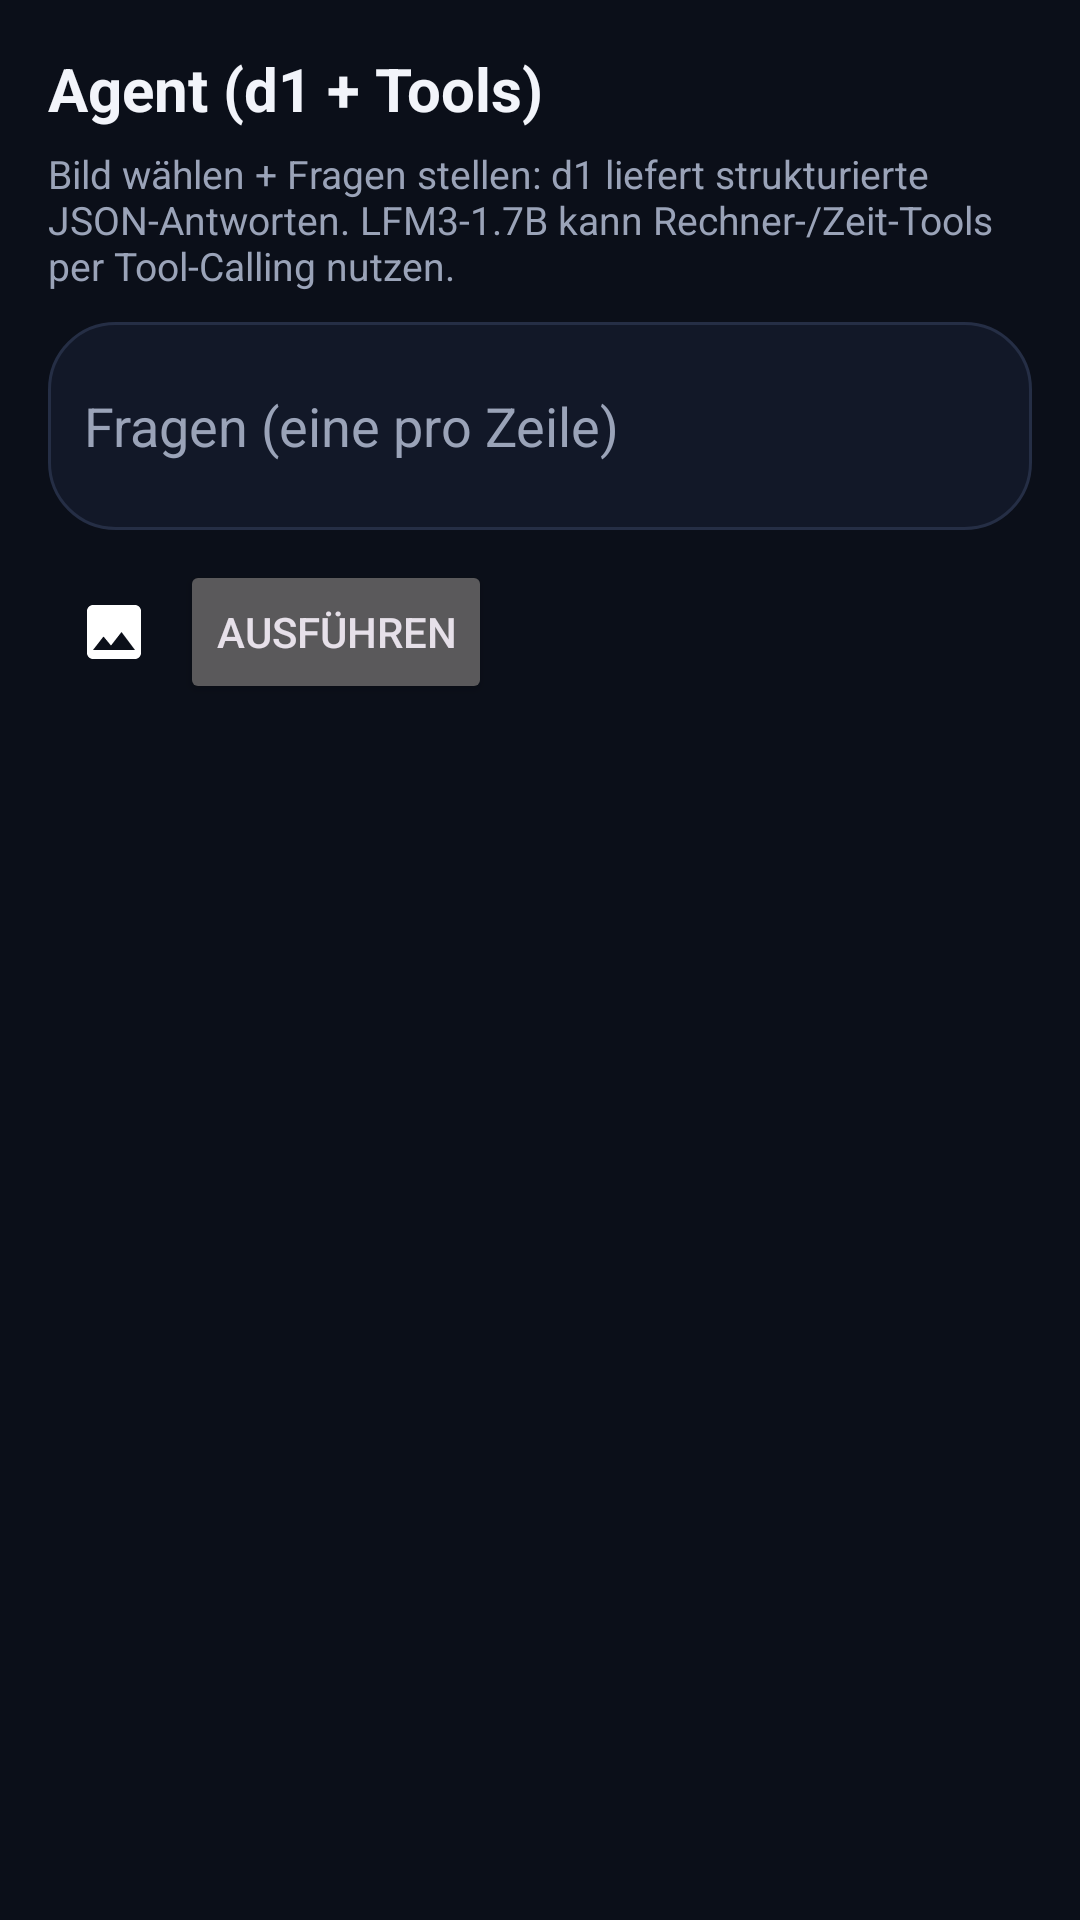

Where to tap for icons on this 1080px×1920px app screen, as [x,y]:
Bild anhängen: [114,632]
